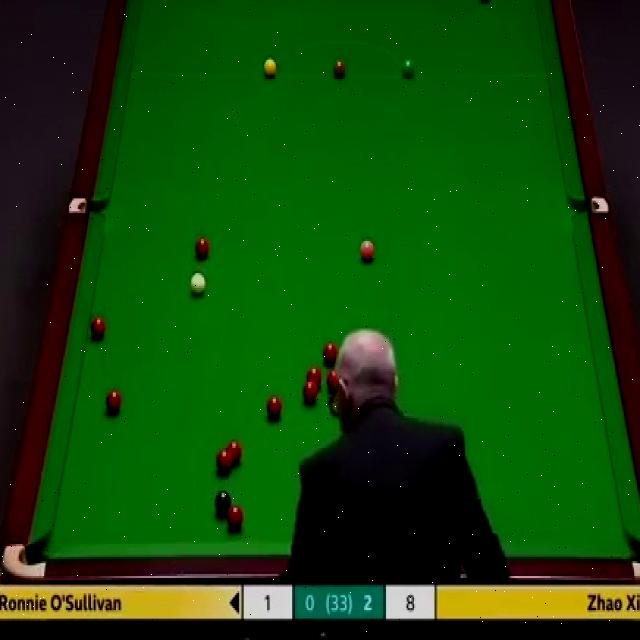black-ball: (214, 492, 232, 515)
brown-ball: (332, 58, 346, 78)
green-ball: (400, 58, 414, 78)
pink-ball: (360, 241, 376, 264)
red-ball: (106, 387, 123, 416), (321, 340, 339, 365), (90, 316, 106, 344), (266, 392, 282, 418), (227, 439, 241, 467), (216, 450, 232, 474), (303, 382, 320, 404), (305, 365, 322, 387), (228, 512, 243, 533), (194, 239, 210, 258)
white-ball: (188, 271, 207, 296)
yellow-ball: (263, 58, 277, 78)
